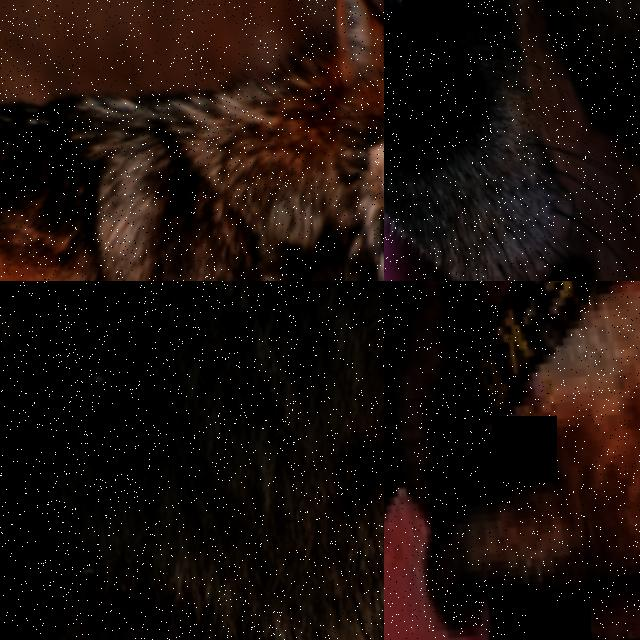dog: (384, 281, 640, 640), (384, 0, 640, 281)
wolf: (0, 281, 384, 640), (0, 0, 384, 281)
